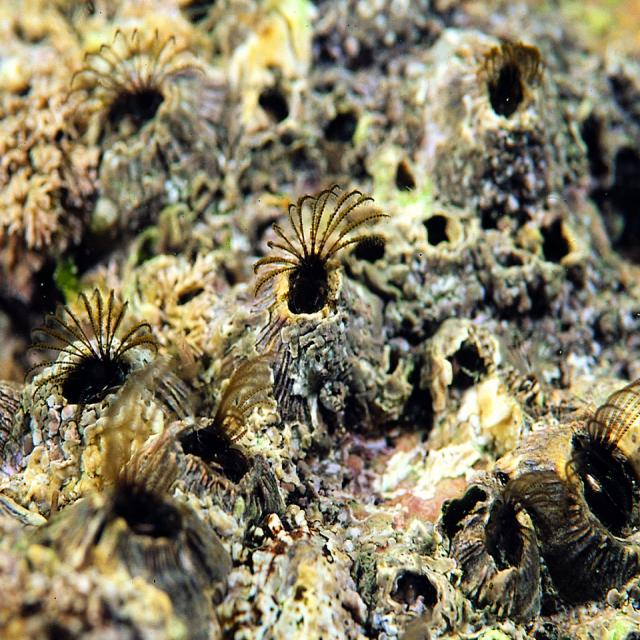barnacles: (250, 182, 399, 416), (45, 457, 230, 625), (69, 22, 219, 220), (424, 24, 568, 206), (149, 352, 291, 532), (24, 283, 190, 422), (534, 409, 640, 594), (438, 475, 546, 609), (416, 314, 506, 424), (222, 56, 304, 172), (528, 204, 602, 305), (370, 558, 455, 636), (396, 196, 468, 280), (311, 82, 370, 172), (375, 141, 433, 228)
